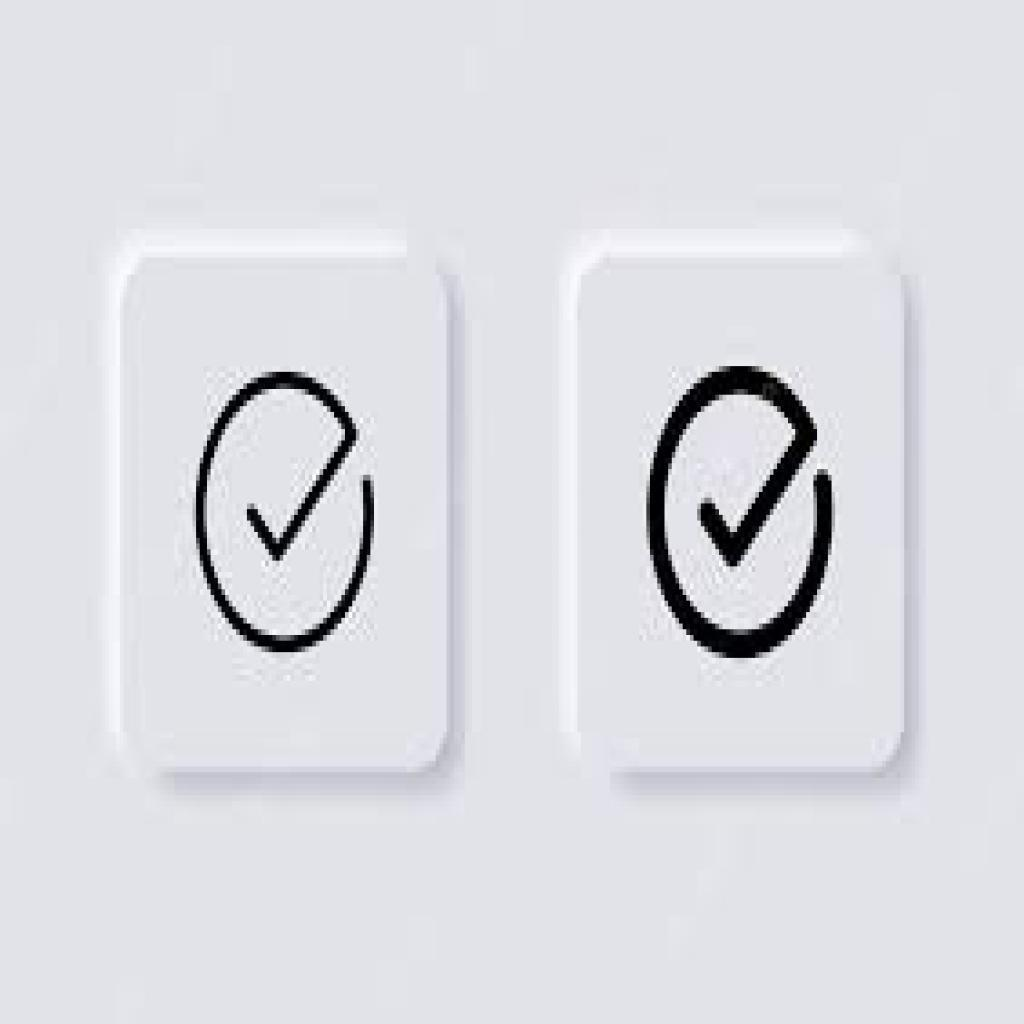checkbox: (647, 367, 833, 659), (191, 371, 374, 656)
